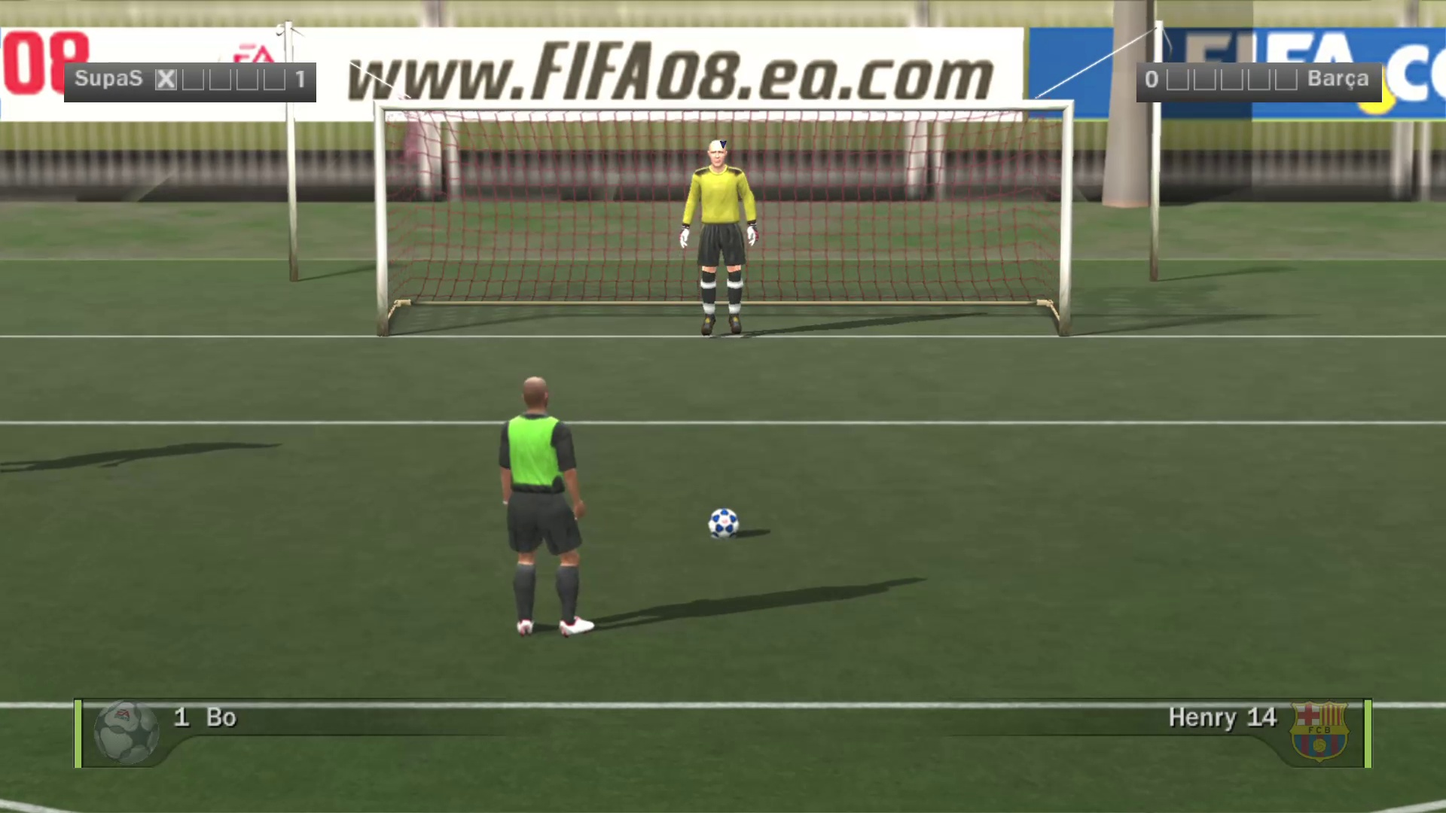ball: (691, 490, 723, 523)
goal_post: (48, 6, 720, 215)
keeper: (633, 31, 720, 240)
kicker: (445, 237, 546, 504)
